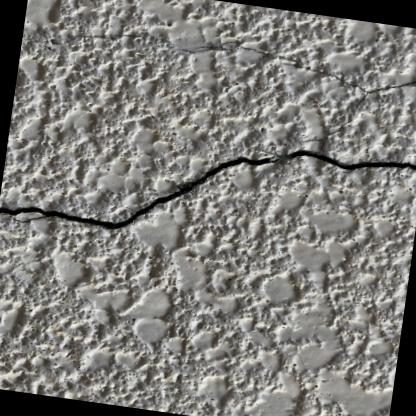crack: (0, 145, 416, 231)
